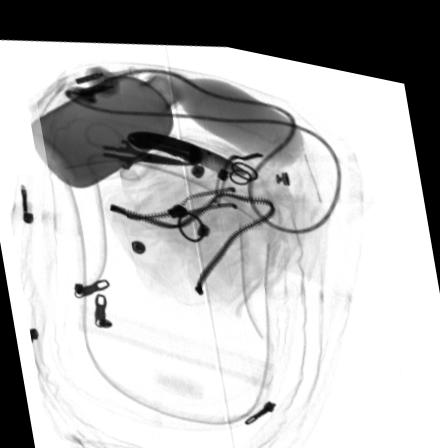Knife: (126, 124, 249, 166)
Scissors: (80, 114, 190, 172)
